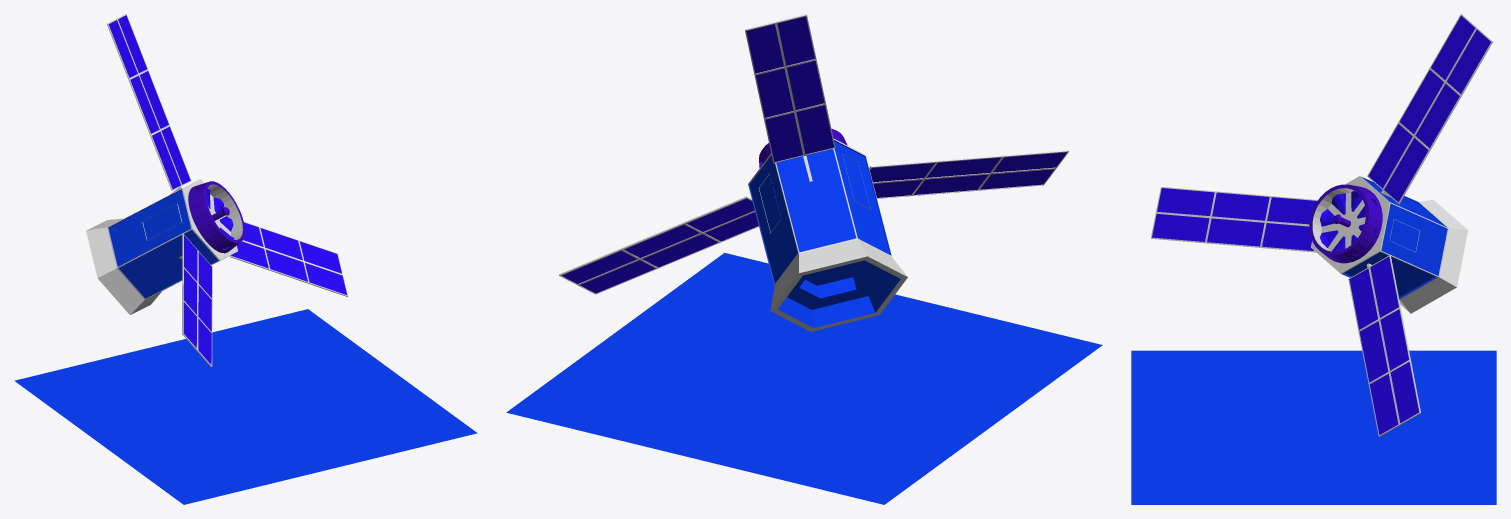
The model's file is satellite_2_blue.fbx.
3 views of the same model, side by side, from view 1: azimuth 30°, elevation 25°; view 2: azimuth 150°, elevation 25°; view 3: azimuth 270°, elevation 25° (orthographic). The views are drawn at different scales.
Visible parts, largest first — view 1: Plane, Cylinder.013, pCube10.002, pCube10, pCube10.001, Cylinder.019; view 2: Plane, Cylinder.013, pCube10, pCube10.002, pCube10.001; view 3: Plane, Cylinder.013, pCube10.001, pCube10, pCube10.002, Cylinder.019.
Part boxes in pixels (x1=…): Plane: x1=14, y1=309, x2=477, y2=504; Cylinder.013: x1=86, y1=179, x2=237, y2=314; pCube10.002: x1=229, y1=221, x2=348, y2=296; pCube10: x1=107, y1=14, x2=191, y2=190; pCube10.001: x1=182, y1=233, x2=212, y2=367; Cylinder.019: x1=188, y1=181, x2=244, y2=253; Plane: x1=506, y1=253, x2=1102, y2=504; Cylinder.013: x1=748, y1=138, x2=907, y2=331; pCube10: x1=744, y1=14, x2=835, y2=163; pCube10.002: x1=559, y1=196, x2=758, y2=294; pCube10.001: x1=869, y1=150, x2=1069, y2=198; Plane: x1=1131, y1=350, x2=1496, y2=504; Cylinder.013: x1=1311, y1=176, x2=1468, y2=313; pCube10.001: x1=1151, y1=187, x2=1317, y2=252; pCube10: x1=1367, y1=14, x2=1492, y2=204; pCube10.002: x1=1348, y1=255, x2=1420, y2=437; Cylinder.019: x1=1309, y1=184, x2=1382, y2=263.
Size of the model in its own units: 1000 by 1140 by 1000.
